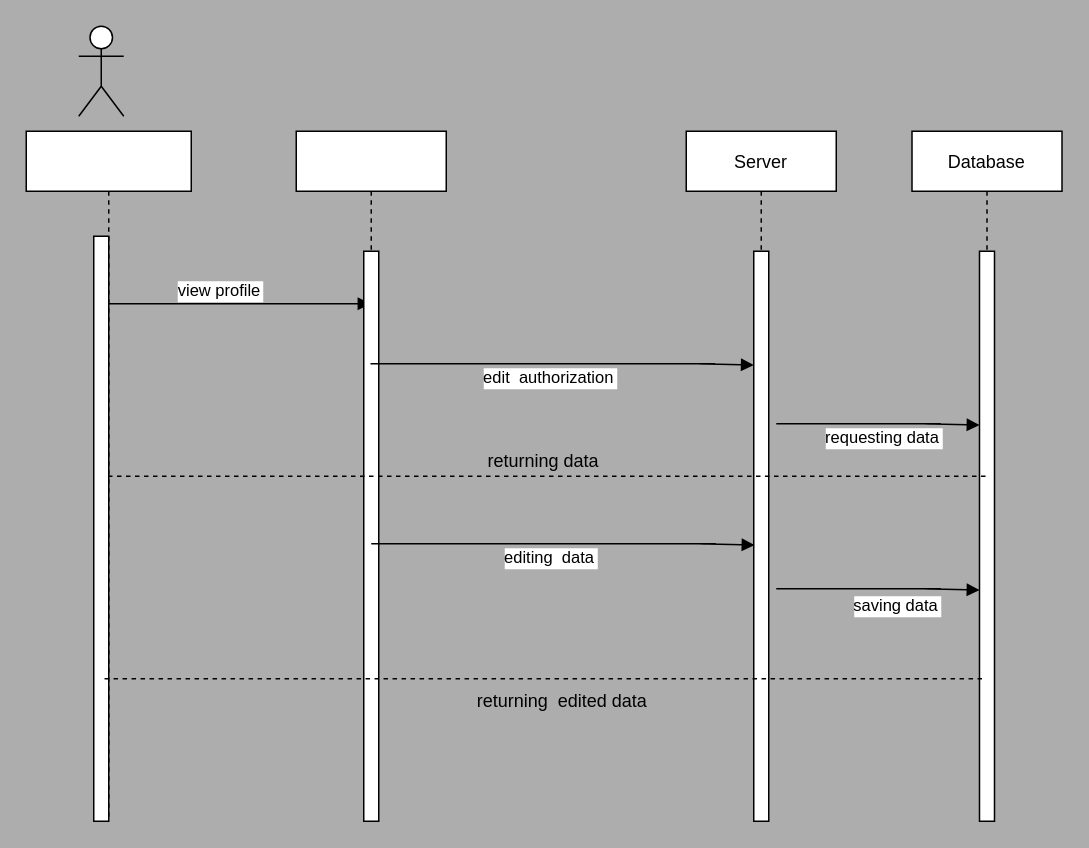
The diagram is 1089 pixels wide and 848 high, and some of its shapes have lost their labels. Each missing label, with the centre of its shape:
"Admin" goes at (x=108, y=475).
"AdminDashboard" goes at (x=370, y=475).
